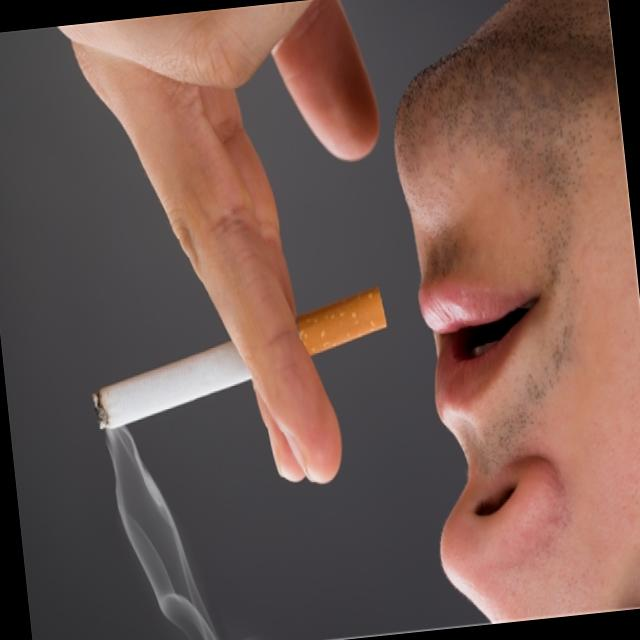smoke: (80, 285, 404, 426)
